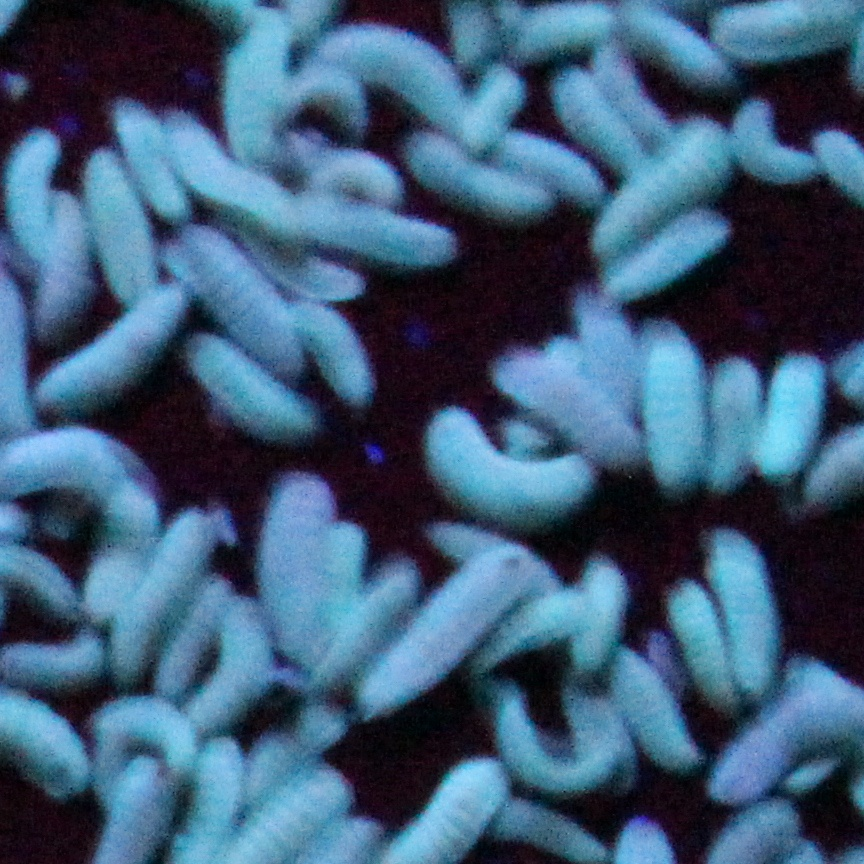larve: (376, 544, 522, 713), (414, 395, 596, 526), (38, 275, 192, 415), (104, 508, 225, 686), (696, 515, 794, 704), (170, 226, 307, 358), (182, 323, 331, 444), (254, 472, 340, 681), (286, 186, 463, 281), (628, 320, 714, 506), (399, 123, 562, 221), (302, 25, 468, 117), (599, 194, 739, 301), (207, 28, 299, 167), (661, 572, 748, 712), (109, 95, 200, 225), (340, 544, 427, 677), (757, 350, 834, 486), (46, 193, 107, 343), (86, 690, 195, 773), (550, 69, 638, 169), (733, 100, 824, 195), (160, 573, 230, 690), (0, 120, 61, 248), (300, 308, 378, 404), (570, 557, 625, 683)
